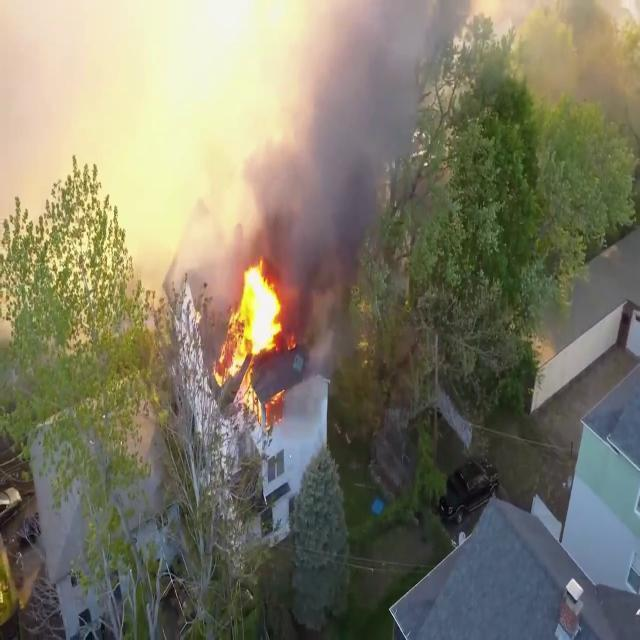Fire: (216, 256, 291, 390)
Smoke: (253, 0, 474, 308)
